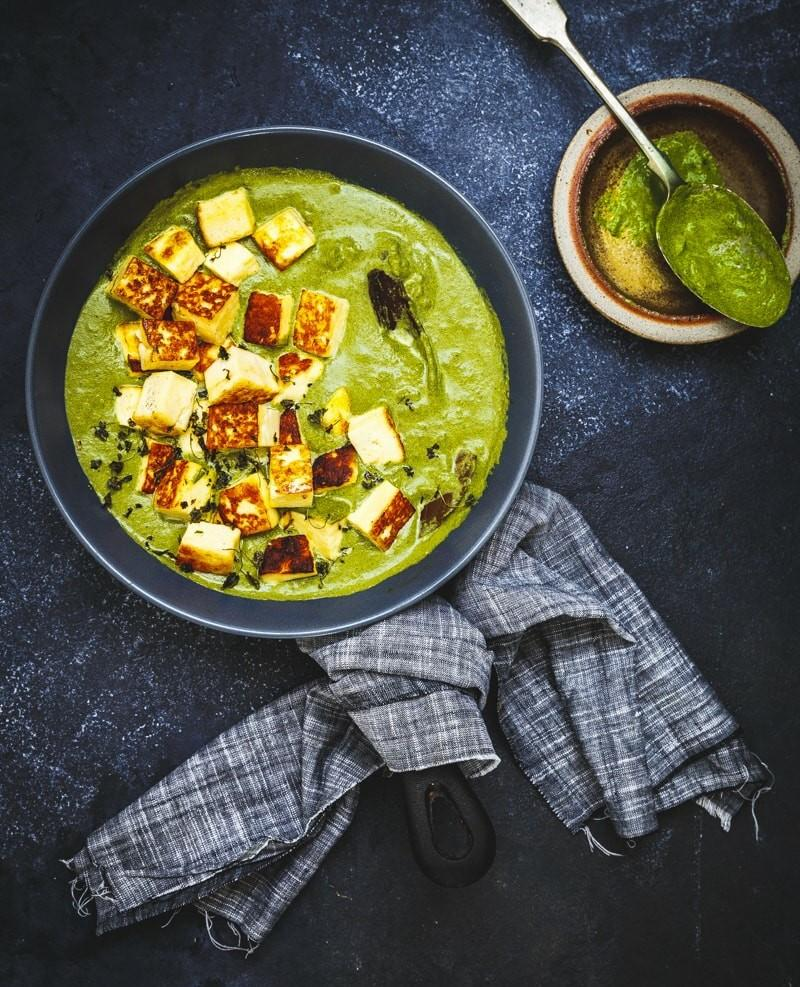PalakPaneer: (69, 170, 510, 595)
